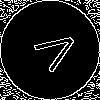V: (25, 25, 82, 79)
